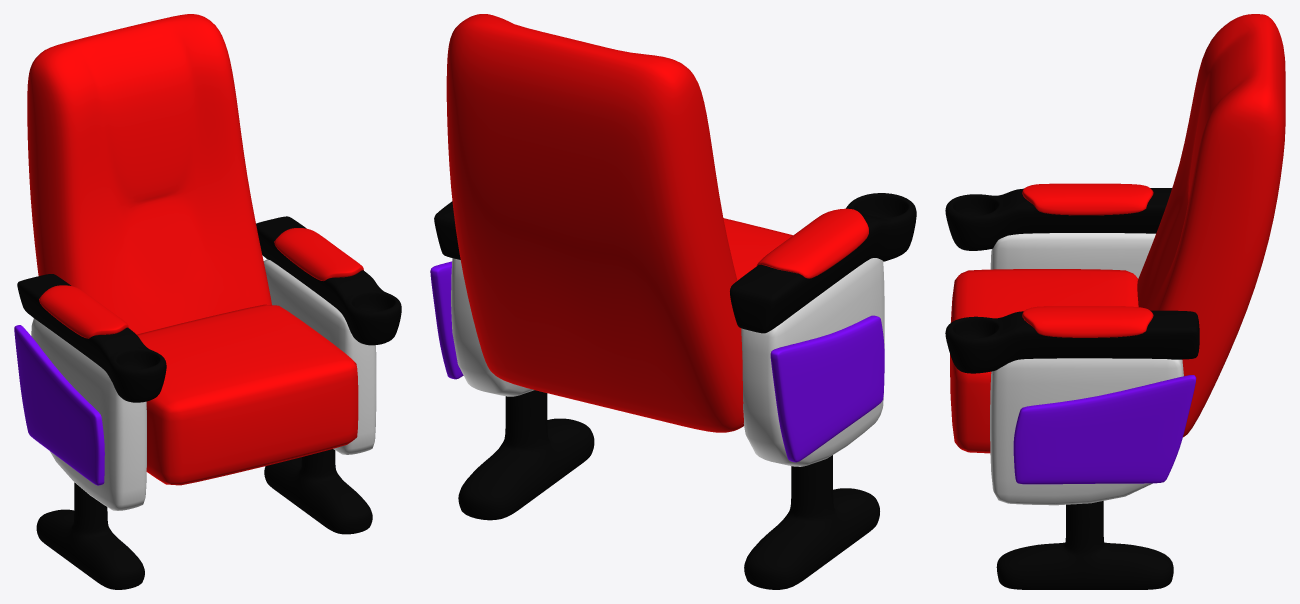
The model's file is chair.fbx.
3 renders of one model, left to right at view 1: azimuth 30°, elevation 25°; view 2: azimuth 150°, elevation 25°; view 3: azimuth 270°, elevation 25°, orthographic. The views are drawn at different scales.
Parts seen in each view (by area): view 1: chair:polySurface2; view 2: chair:polySurface2; view 3: chair:polySurface2.
Part boxes in pixels (x1,y1,x2,y2): chair:polySurface2: (14, 14, 401, 589); chair:polySurface2: (430, 14, 916, 589); chair:polySurface2: (945, 14, 1285, 589).
Bounding box in the file's own units: 3.72 × 5.52 × 3.61.
